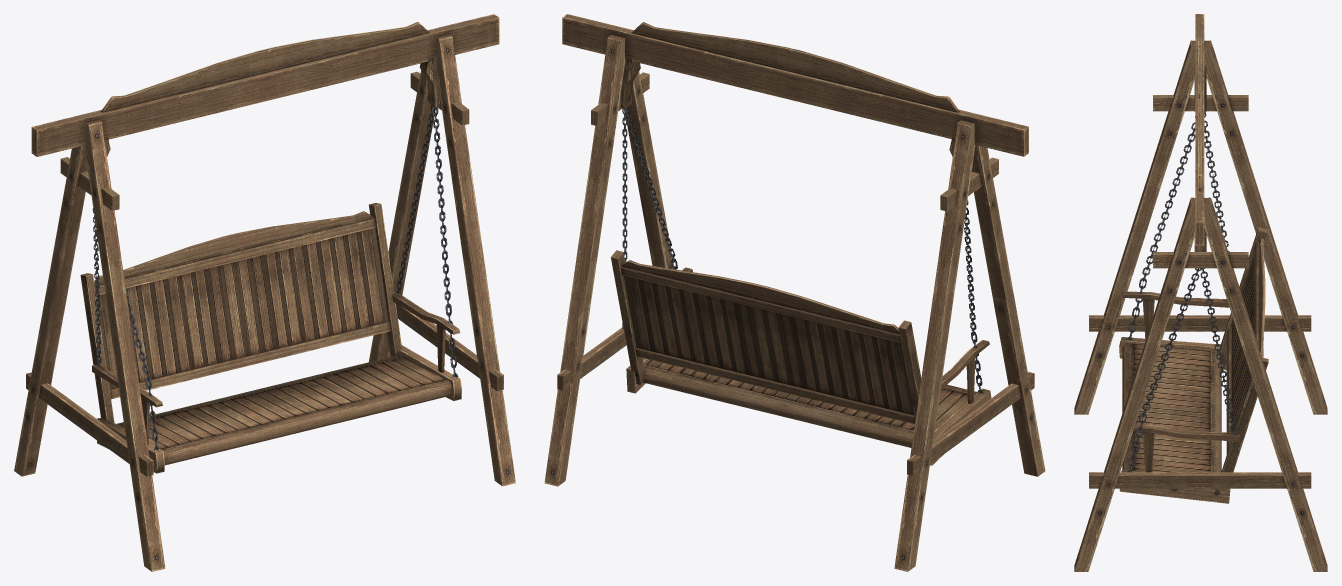
The model's file is swing.FBX.
3 renders of one model, left to right at view 1: azimuth 30°, elevation 25°; view 2: azimuth 150°, elevation 25°; view 3: azimuth 270°, elevation 25°, orthographic. The views are drawn at different scales.
Parts seen in each view (by area): view 1: chair, Object; view 2: Object, chair; view 3: Object, chair.
Part boxes in pixels (x1,y1,x2,y2): chair: [80, 57, 461, 473]; Object: [14, 14, 515, 571]; Object: [544, 14, 1045, 571]; chair: [610, 57, 991, 465]; Object: [1074, 14, 1327, 571]; chair: [1119, 65, 1268, 503].
Size of the model in its own units: 344 by 304 by 178.
2 materials, 2 textured.
